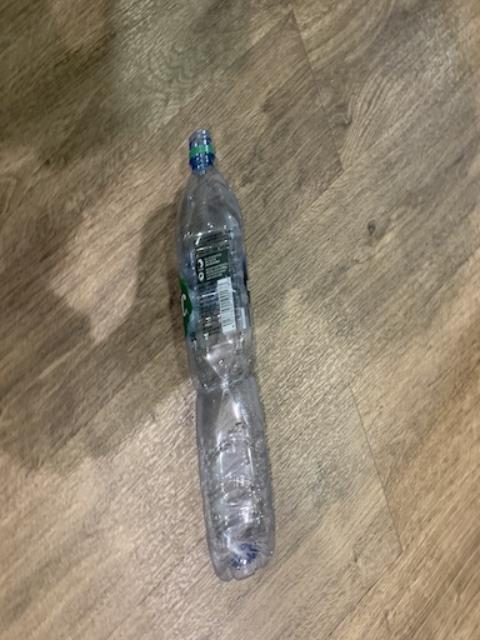plastic: (176, 129, 271, 578)
